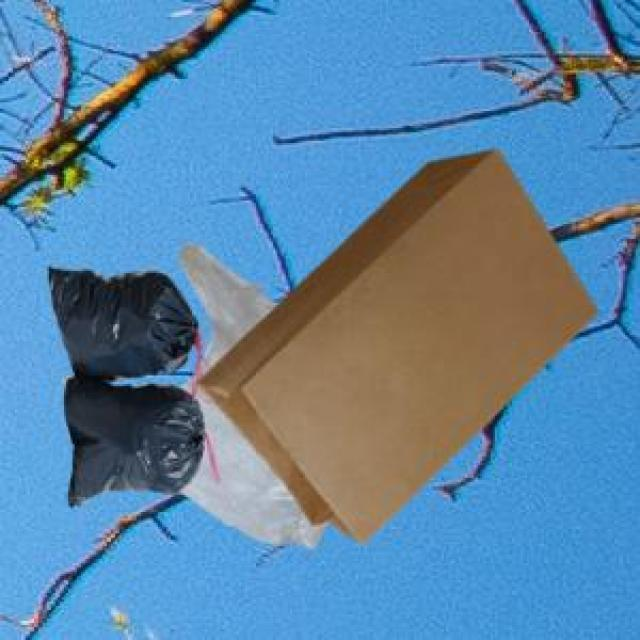miscellaneous trash: (45, 264, 214, 501)
paper: (194, 147, 593, 540)
